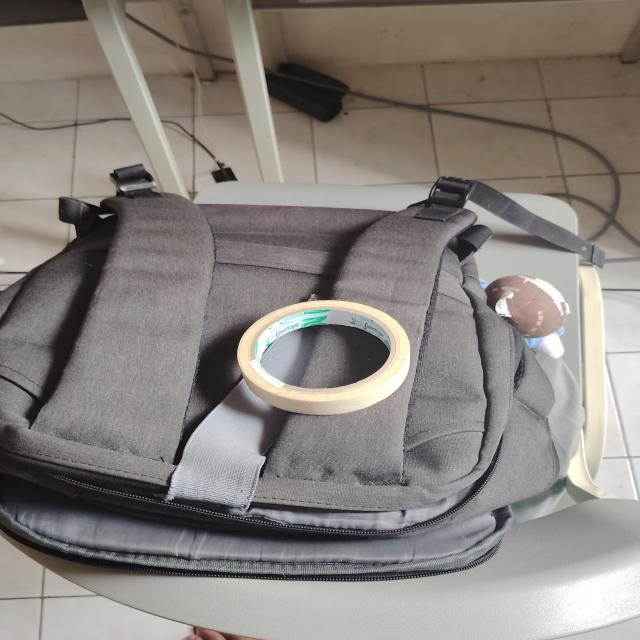tape: (237, 301, 410, 415)
